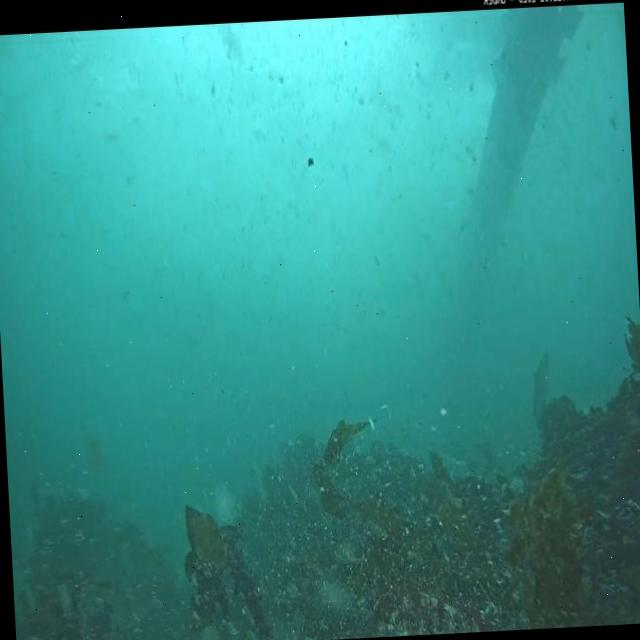fish: (526, 349, 552, 418)
